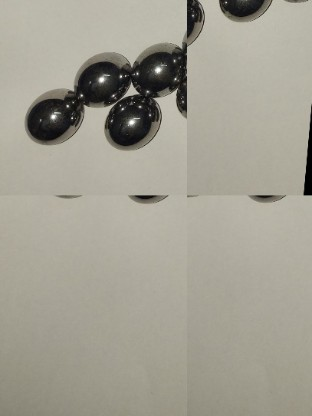ironball: (64, 50, 132, 103), (100, 98, 163, 152), (130, 40, 182, 100), (28, 87, 84, 141), (216, 0, 268, 26), (185, 0, 206, 49)
